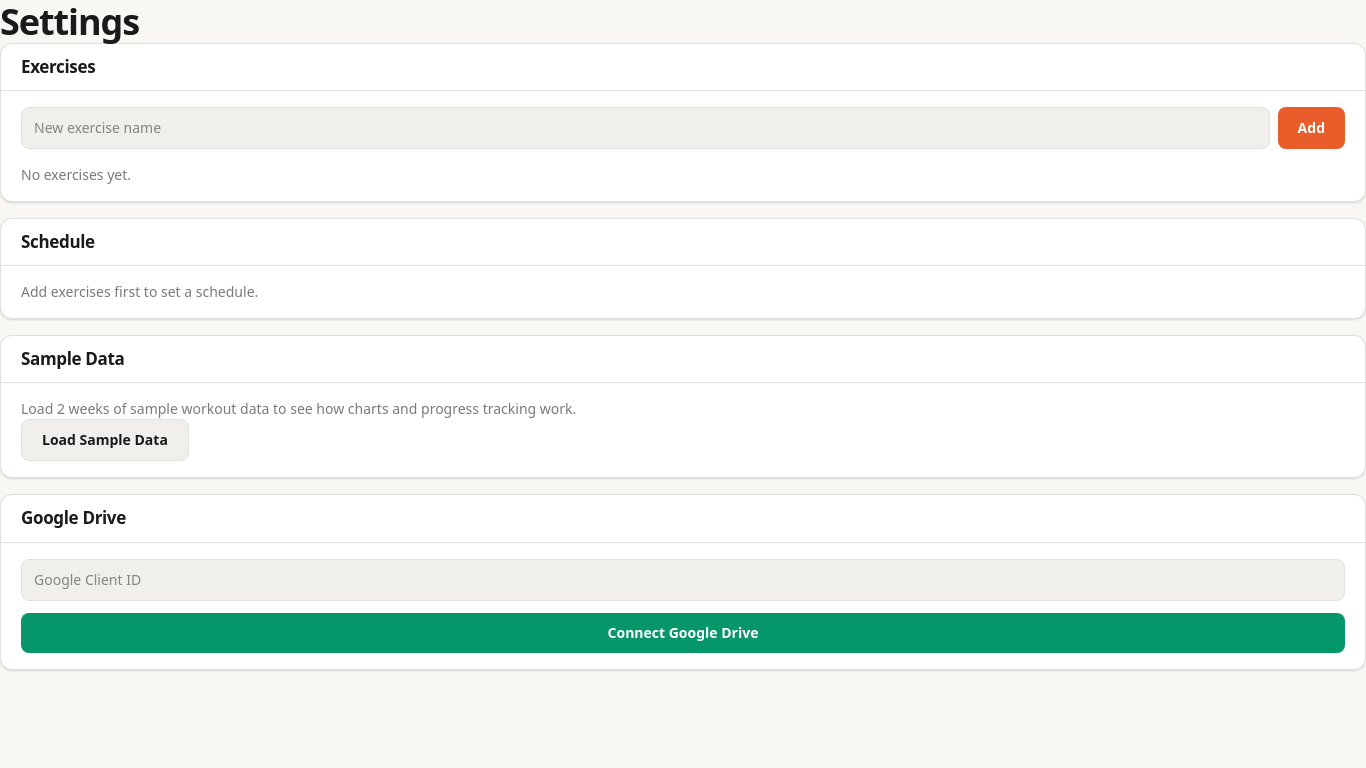
Scenario: Settings - Exercise List › adds an exercise
This screenshot has width=1366, height=768.
In the field with placeholder "New exercise name": (645, 128) [21,107,1270,149], type "Bench Press"
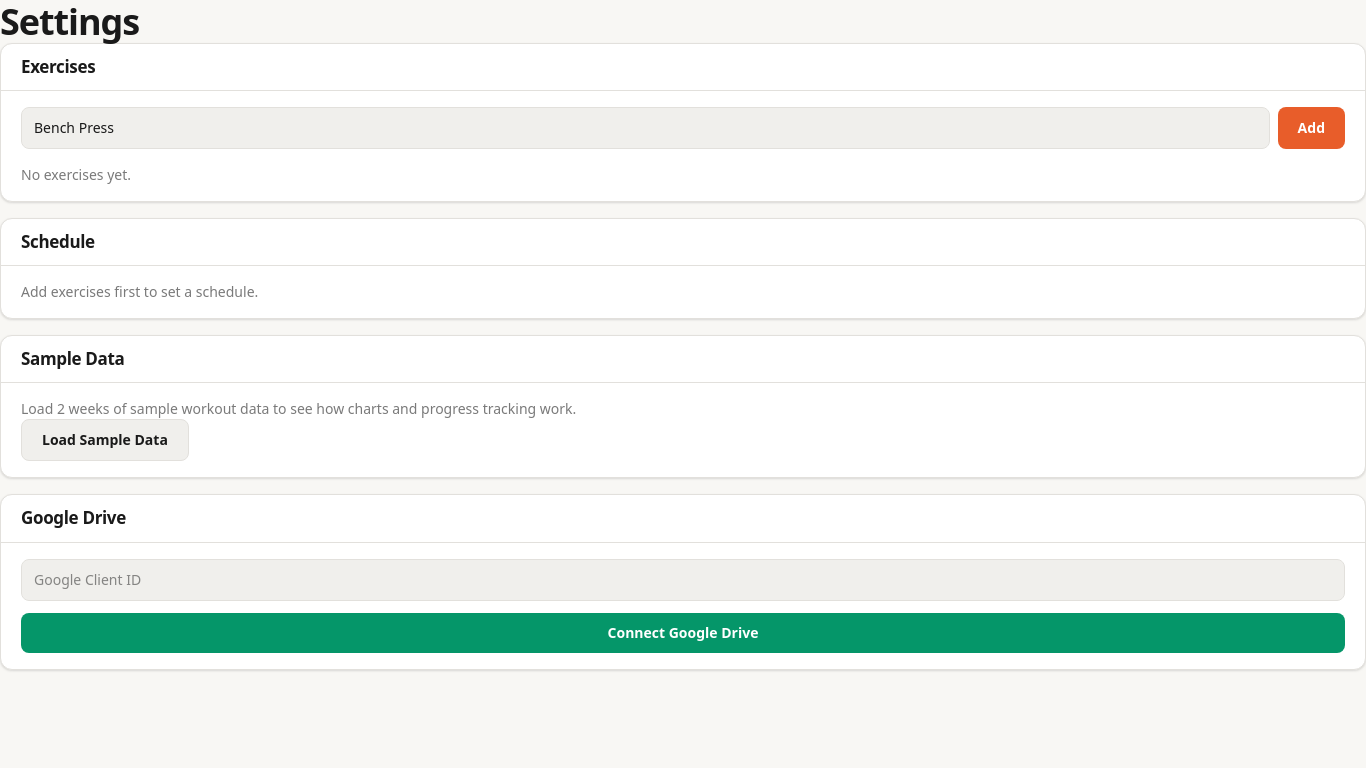
Click the button "Add": (1311, 128) [1278,107,1345,149]
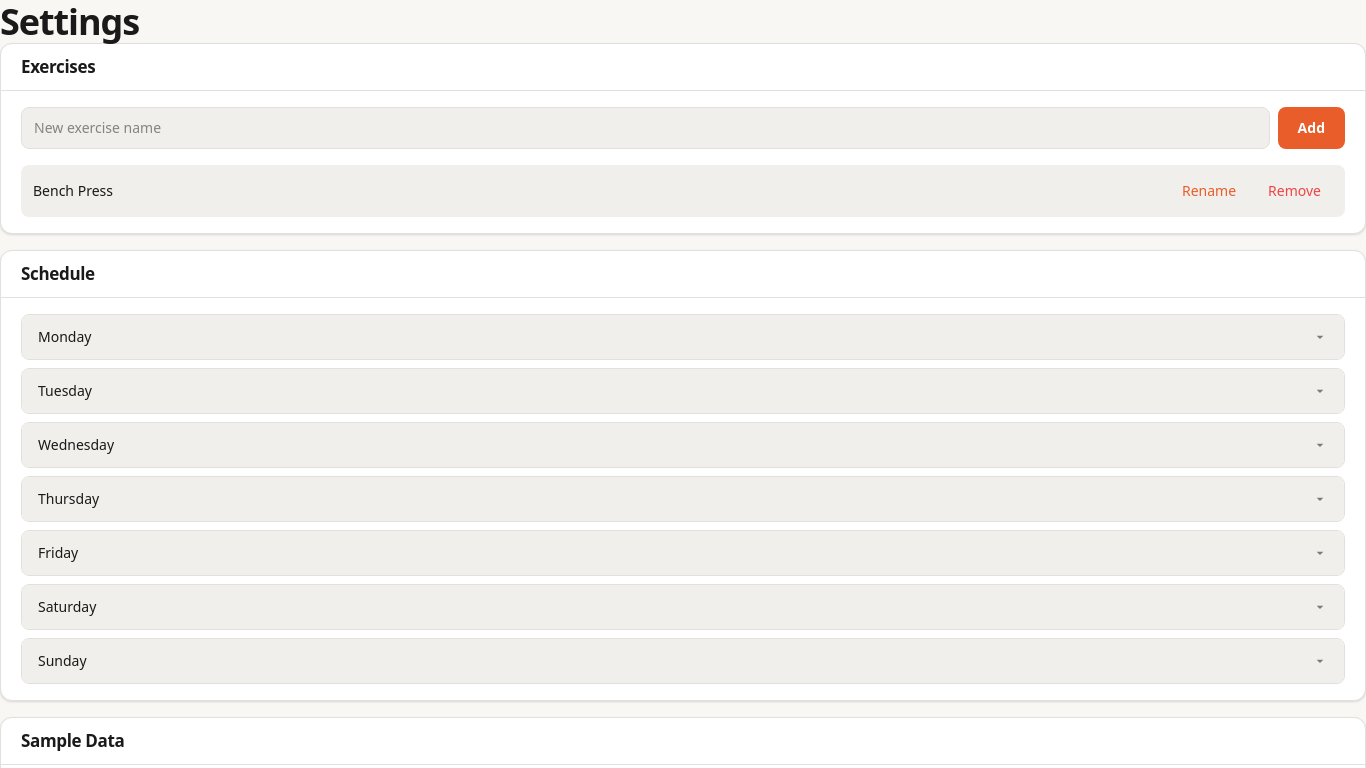
expect the text "Bench Press" is shown: met, box [33,181,113,200]
expect the text "No exercises yet." is gone: met
